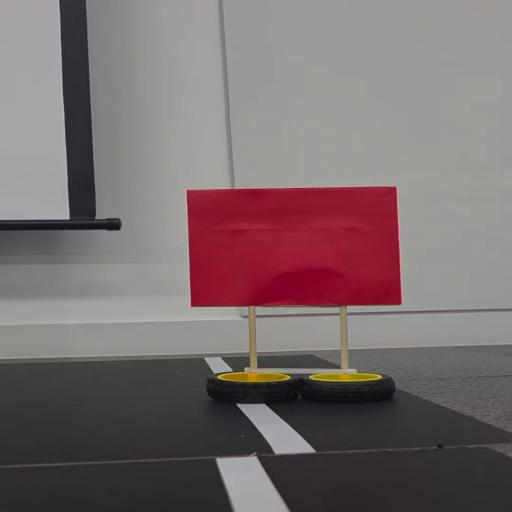Sign_A: (175, 180, 409, 404)
